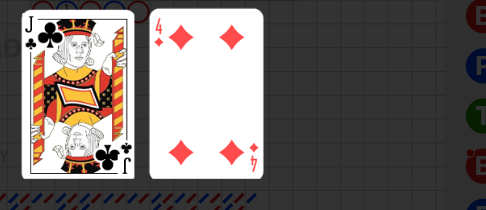4D: (248, 141, 260, 172)
JC: (23, 15, 39, 53)
